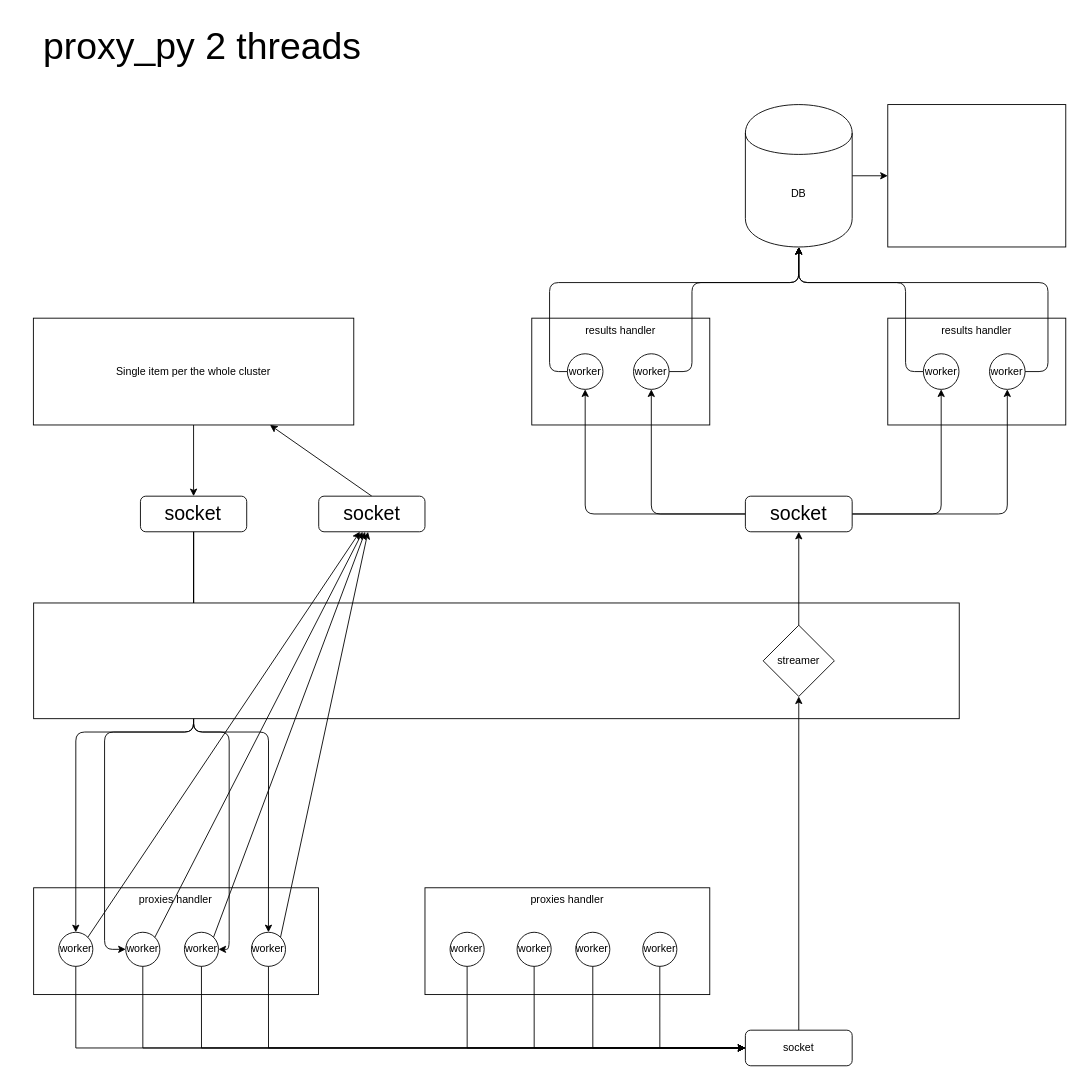
This 1081x1081 diagram has some shape labels left out. The shapes that lost their labels are listed below. From the top down, each one's box as (x1, y1, x2, y2) in pixels, then its label:
(887, 104, 1066, 247): server(s)
(32, 317, 354, 425): tasks handler
(33, 602, 959, 719): broker
